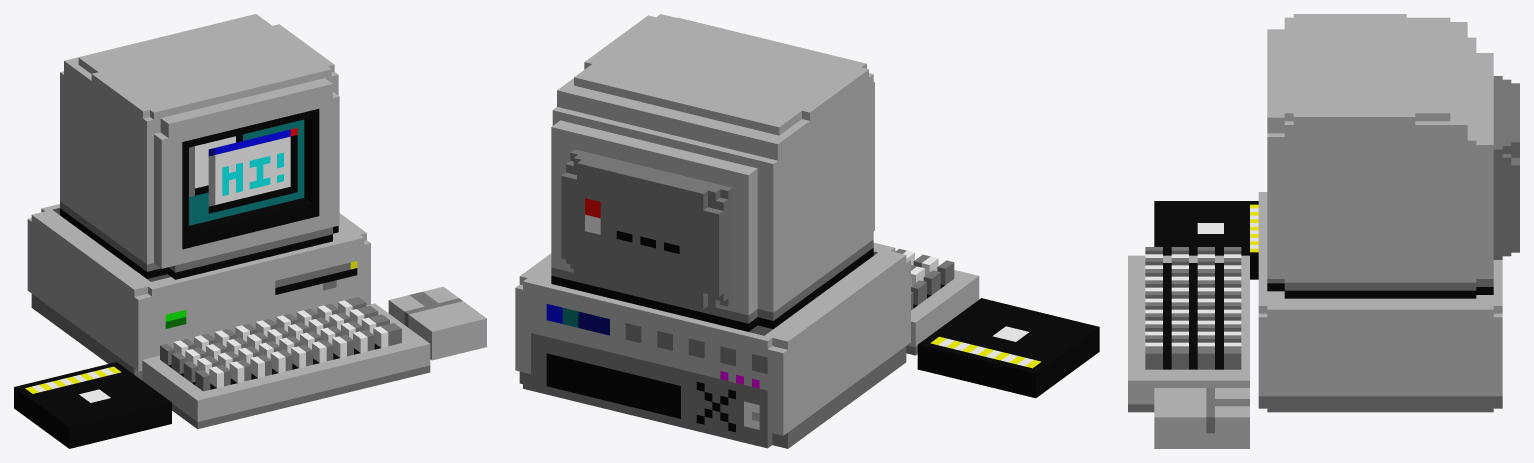
3 renders of one model, left to right at view 1: azimuth 30°, elevation 25°; view 2: azimuth 150°, elevation 25°; view 3: azimuth 270°, elevation 25°, orthographic. The views are drawn at different scales.
Visible parts, largest first — view 1: win95.001; view 2: win95.001; view 3: win95.001.
Part boxes in pixels (x1=…): win95.001: x1=14, y1=14, x2=486, y2=448; win95.001: x1=515, y1=14, x2=1099, y2=448; win95.001: x1=1128, y1=14, x2=1519, y2=448.
Size of the model in its own units: 2.44 by 1.44 by 1.8.
Materials: 1 (1 with a texture image).
